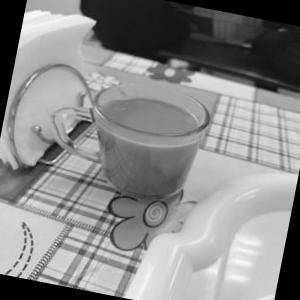coffee: (52, 52, 238, 225)
